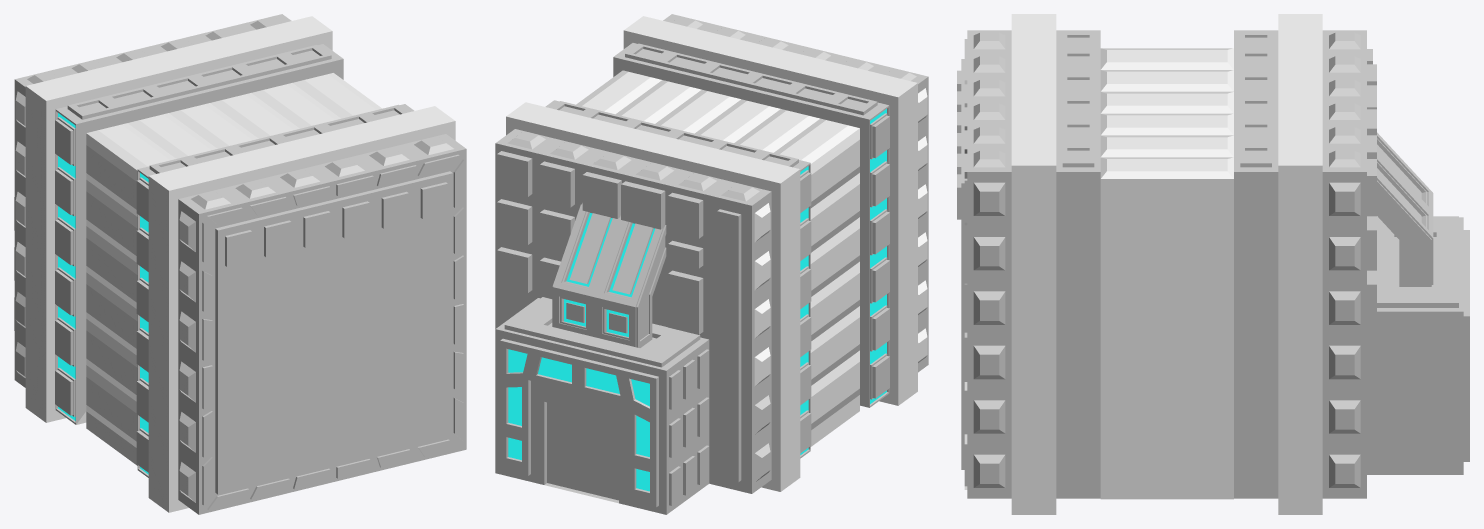
The model's file is building1.glb.
3 renders of one model, left to right at view 1: azimuth 30°, elevation 25°; view 2: azimuth 150°, elevation 25°; view 3: azimuth 270°, elevation 25°, orthographic. The views are drawn at different scales.
Visible parts, largest first — view 1: Cube.024; view 2: Cube.024; view 3: Cube.024.
Boxes of the visible parts, bbox=[...] form: Cube.024: bbox=[14, 14, 466, 514]; Cube.024: bbox=[495, 14, 928, 514]; Cube.024: bbox=[957, 14, 1469, 514].
Size of the model in its own units: 26.68 by 28.66 by 38.13.
